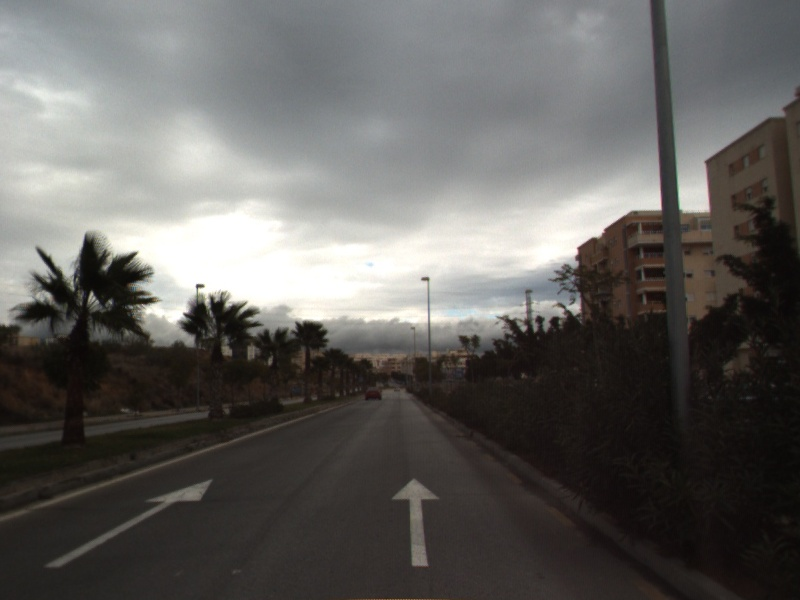STRAIGHT: (42, 477, 215, 569), (390, 476, 442, 568)
